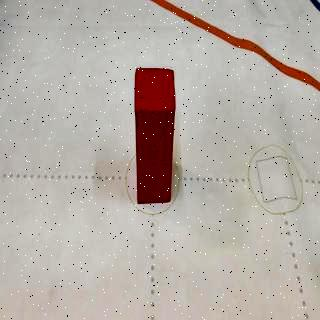redbox: (134, 68, 176, 202)
